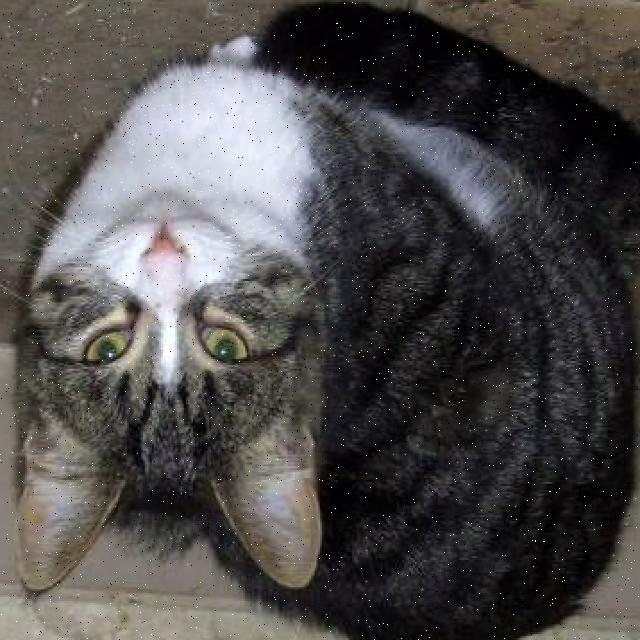Cat: (16, 188, 327, 594)
